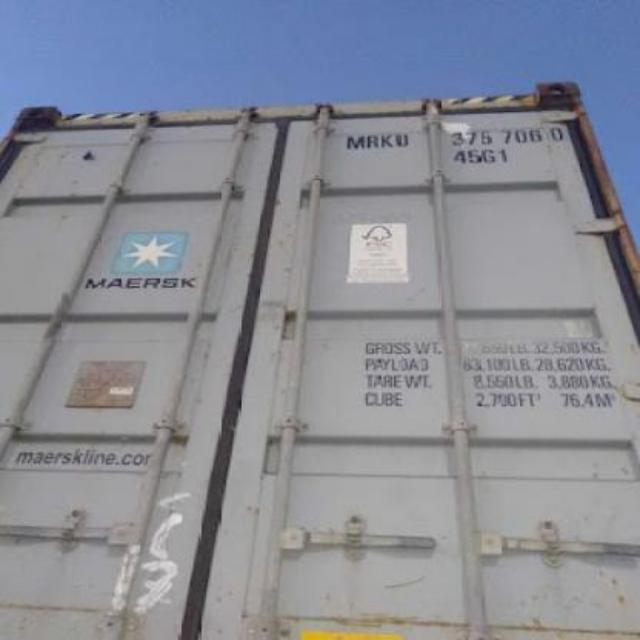0: (512, 130, 528, 144), (550, 128, 566, 142)
3: (448, 128, 464, 148)
5: (478, 132, 492, 144)
6: (528, 127, 544, 143)
7: (496, 127, 516, 143), (464, 132, 480, 144)
K: (380, 132, 396, 146)
M: (344, 134, 364, 148)
R: (368, 134, 382, 148)
U: (394, 132, 412, 148)
